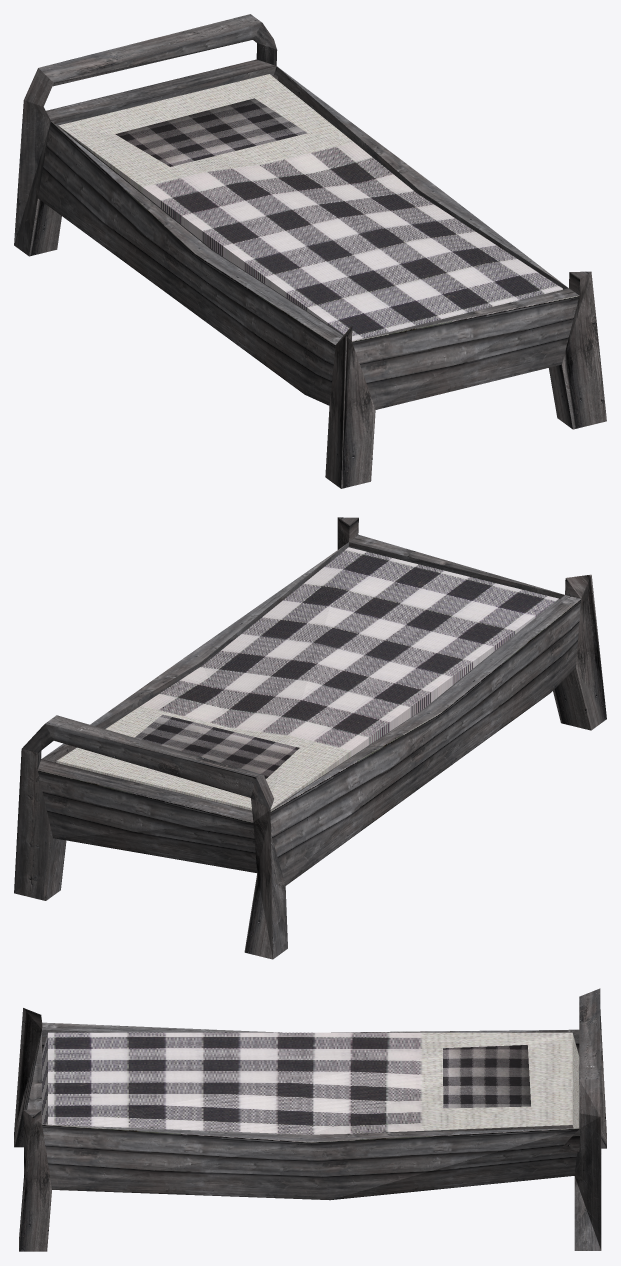
The model's file is tavern_bed_LOD.dae.
The picture shows the model from 3 angles, top to bottom: view 1: azimuth 30°, elevation 25°; view 2: azimuth 150°, elevation 25°; view 3: azimuth 270°, elevation 25°; orthographic projection. The views are drawn at different scales.
Parts seen in each view (by area): view 1: Default_Layer; view 2: Default_Layer; view 3: Default_Layer.
Boxes of the visible parts, x1,y1,x2,y2 form: Default_Layer: (14,14,606,488); Default_Layer: (14,517,606,959); Default_Layer: (14,988,606,1251).
Size of the model in its own units: 0.8727 by 0.5503 by 1.86.
